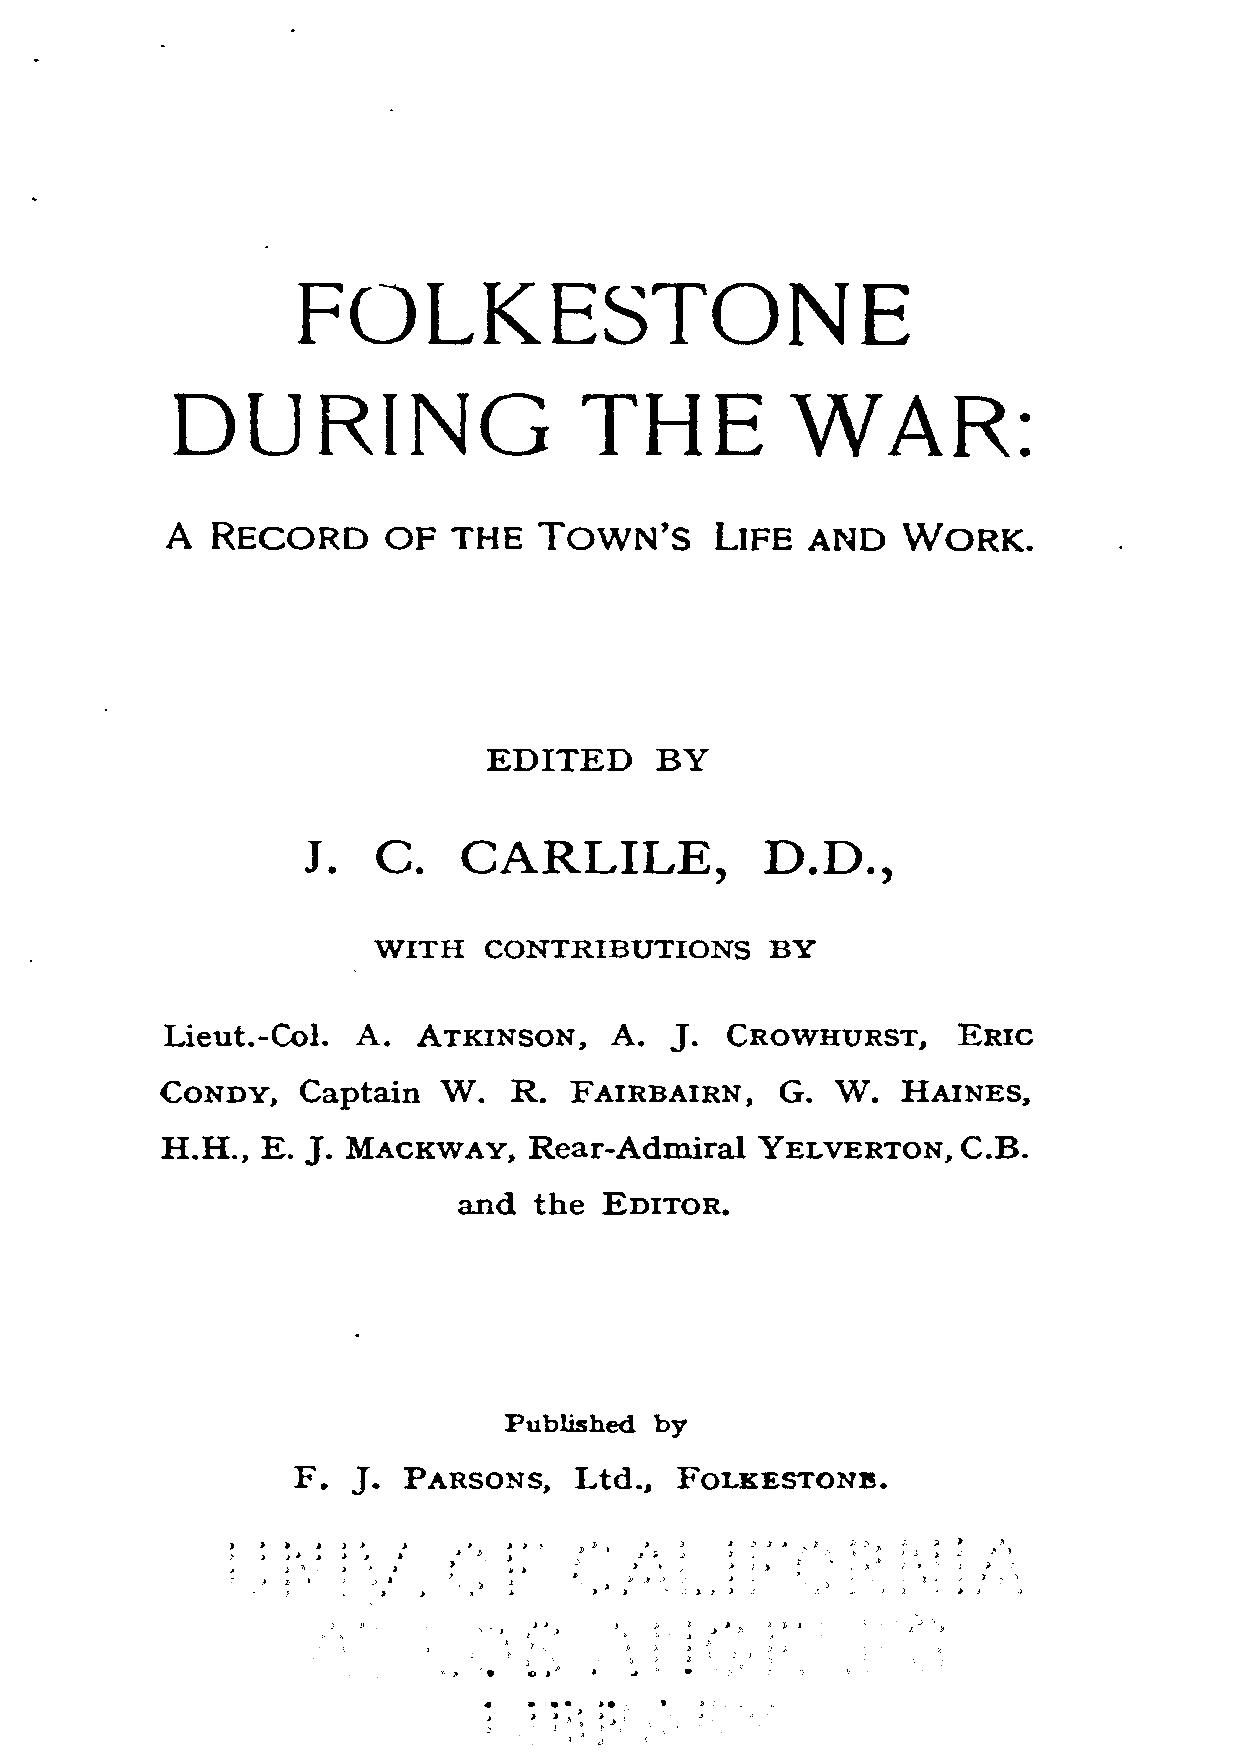author: (298, 742, 896, 884)
title: (161, 278, 1036, 553)
